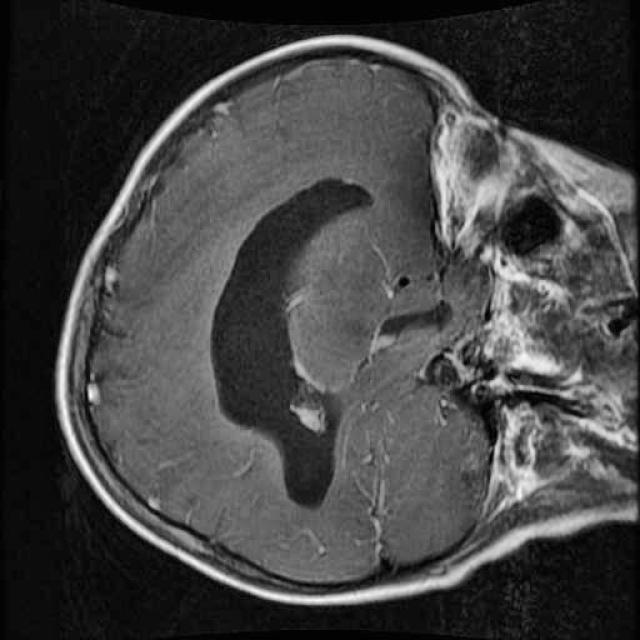Non-Tumor: (202, 161, 385, 524)
